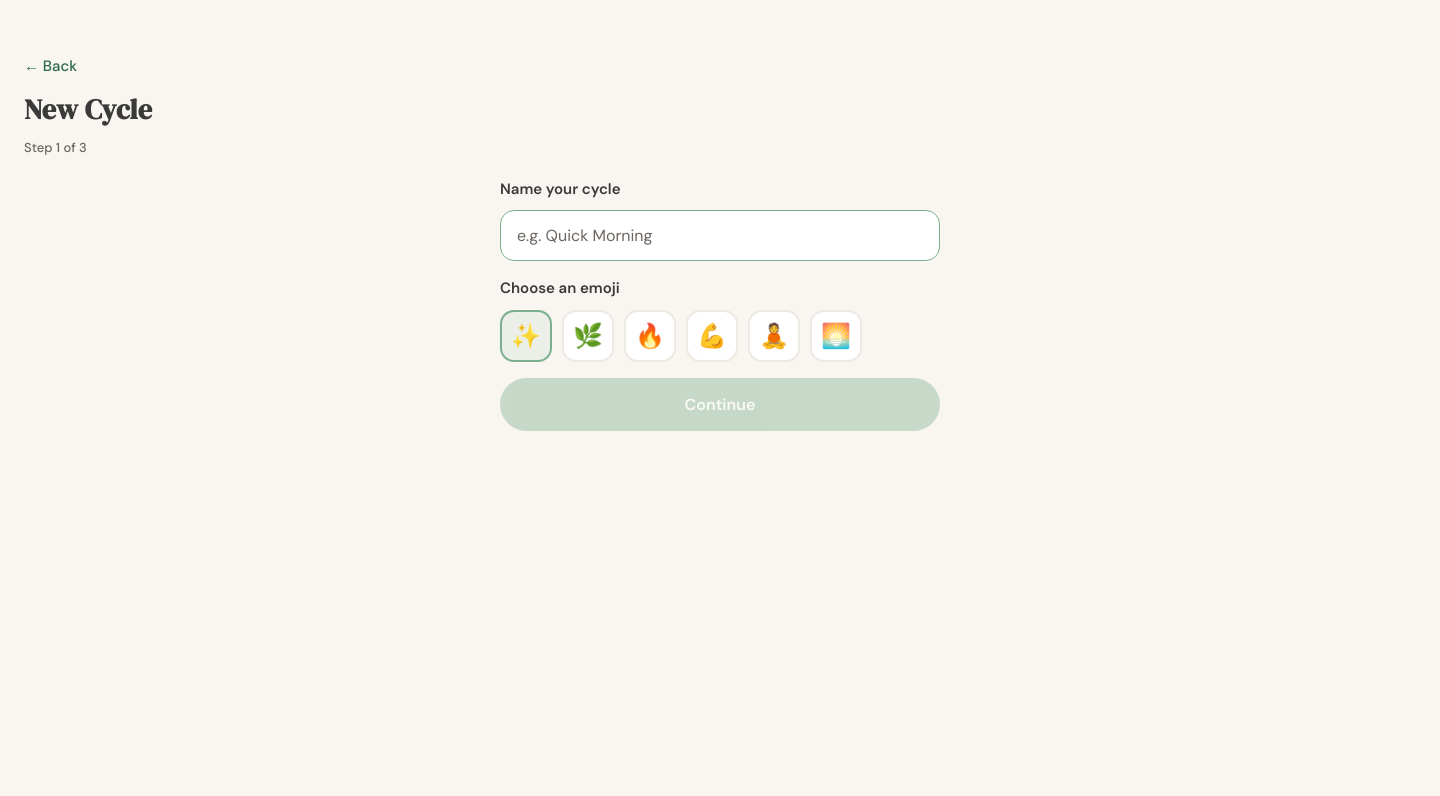
CycleBuilder — step 2 (select exercises) › shows a selection count and enables Continue once exercises are picked
This screenshot has width=1440, height=796.
Type "My Mix" into the field with placeholder "e.g. Quick Morning" at (720, 236), box [500,210,940,261]
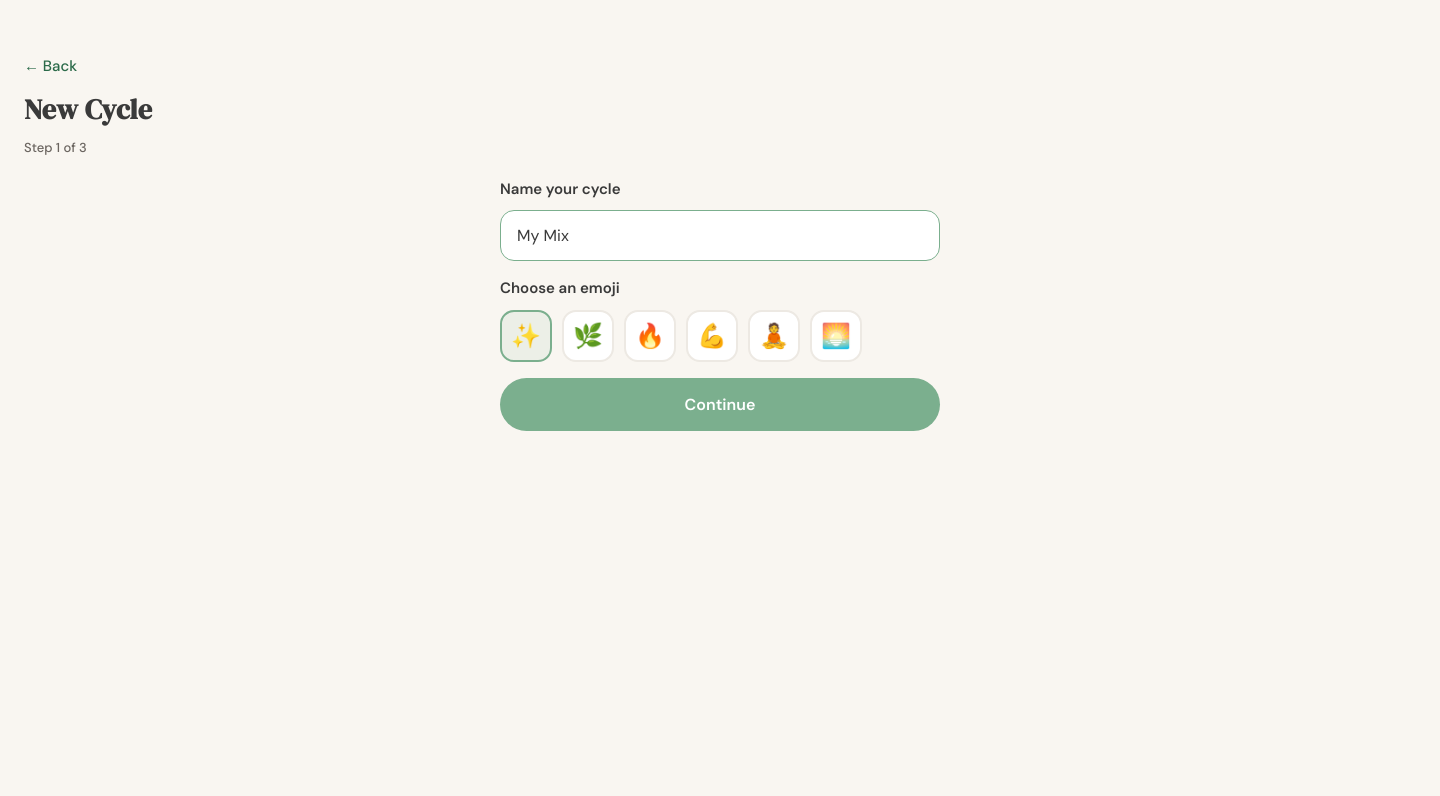
Click the button "Continue" at (720, 404), box [500,378,940,430]
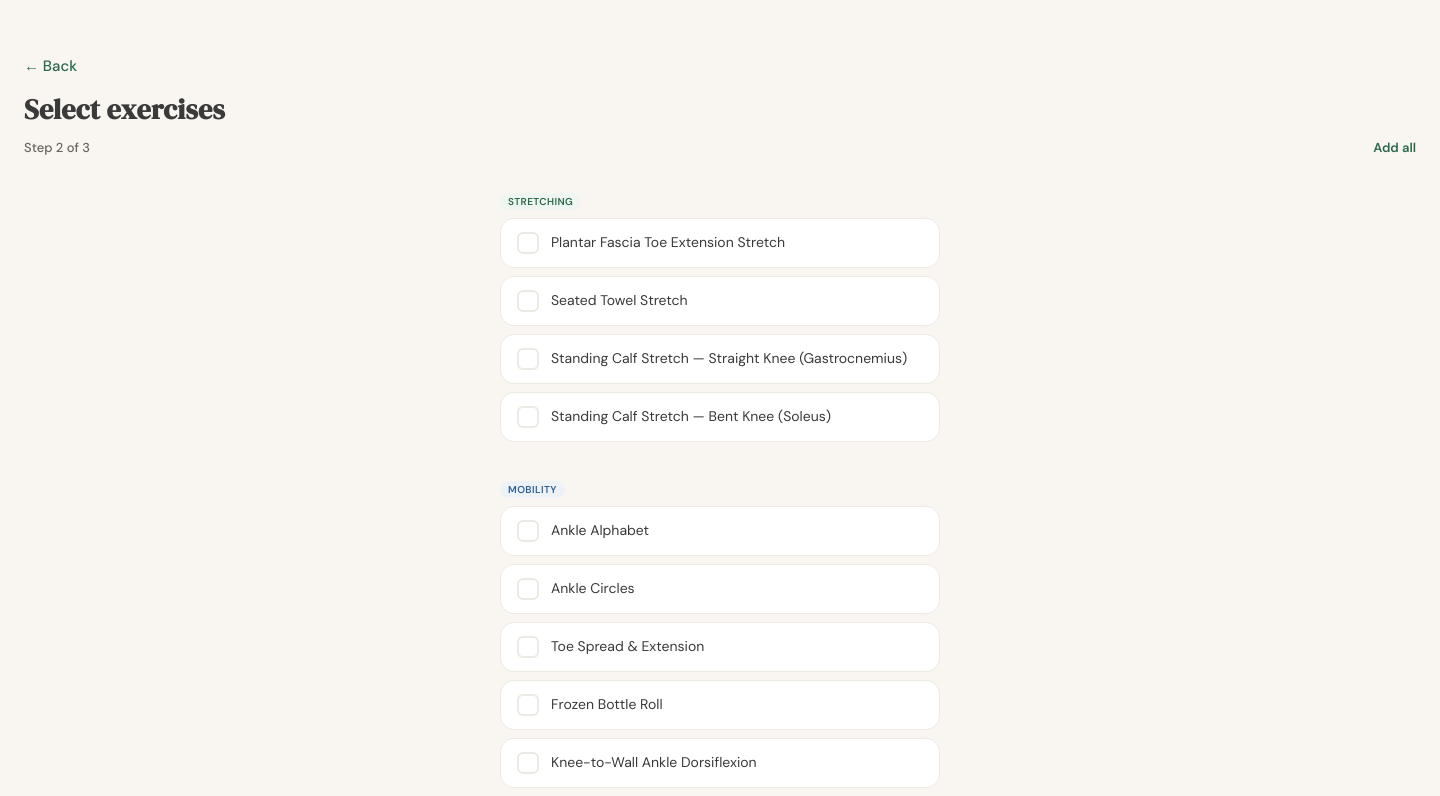
Click the button "Plantar Fascia Toe Extension Stretch" at (720, 242), box [500,218,940,268]
(page scrolled)
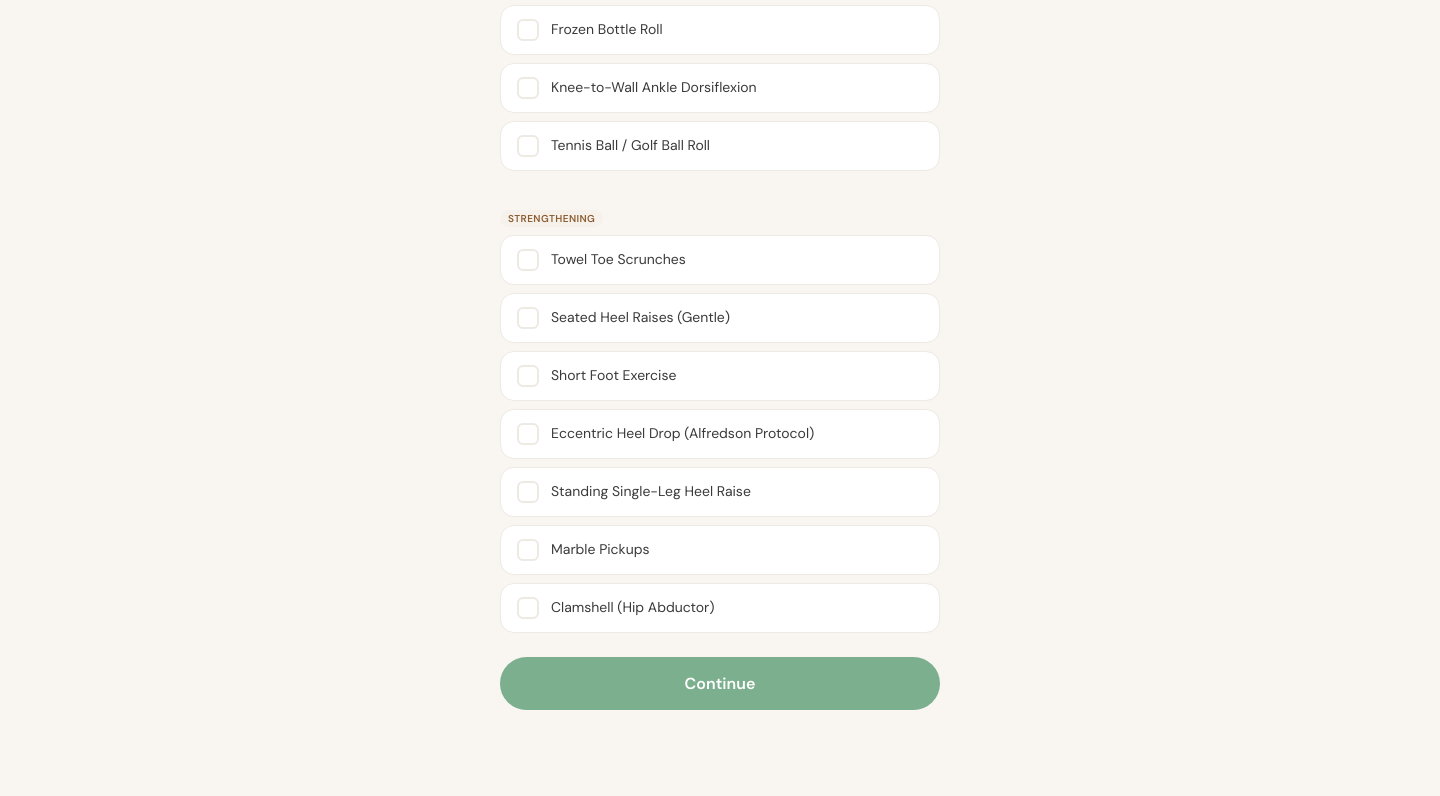
Expected: the button "Continue" is enabled, [500,656,940,710]
